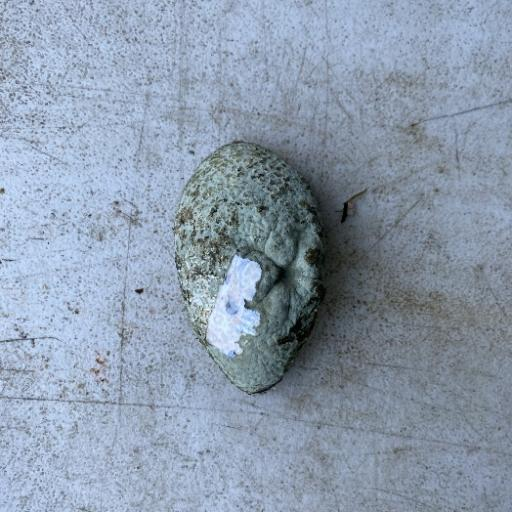Waste: (171, 138, 328, 394)
